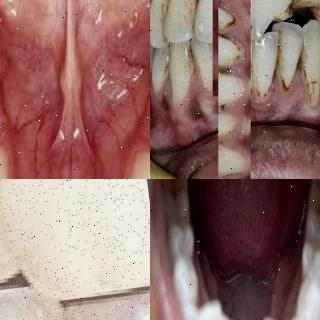maligned: (197, 291, 222, 320)
stains: (273, 24, 298, 103), (252, 43, 277, 107), (302, 31, 320, 114), (184, 45, 210, 101), (216, 66, 246, 100), (179, 0, 203, 40), (153, 0, 175, 43), (216, 33, 242, 68), (219, 106, 241, 146), (154, 51, 176, 88), (289, 0, 319, 20), (217, 8, 239, 32), (218, 165, 248, 179)
